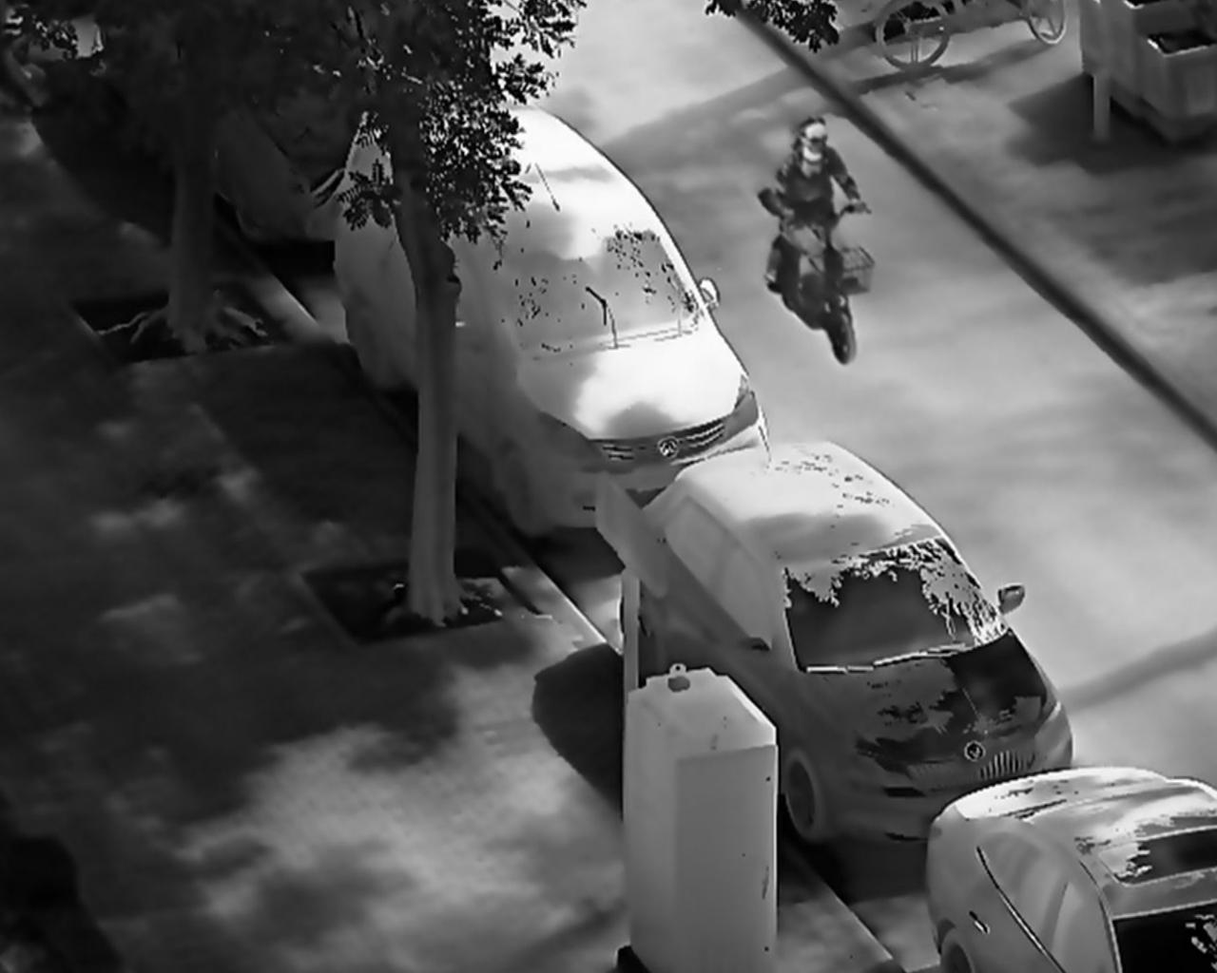person: (772, 110, 873, 329)
